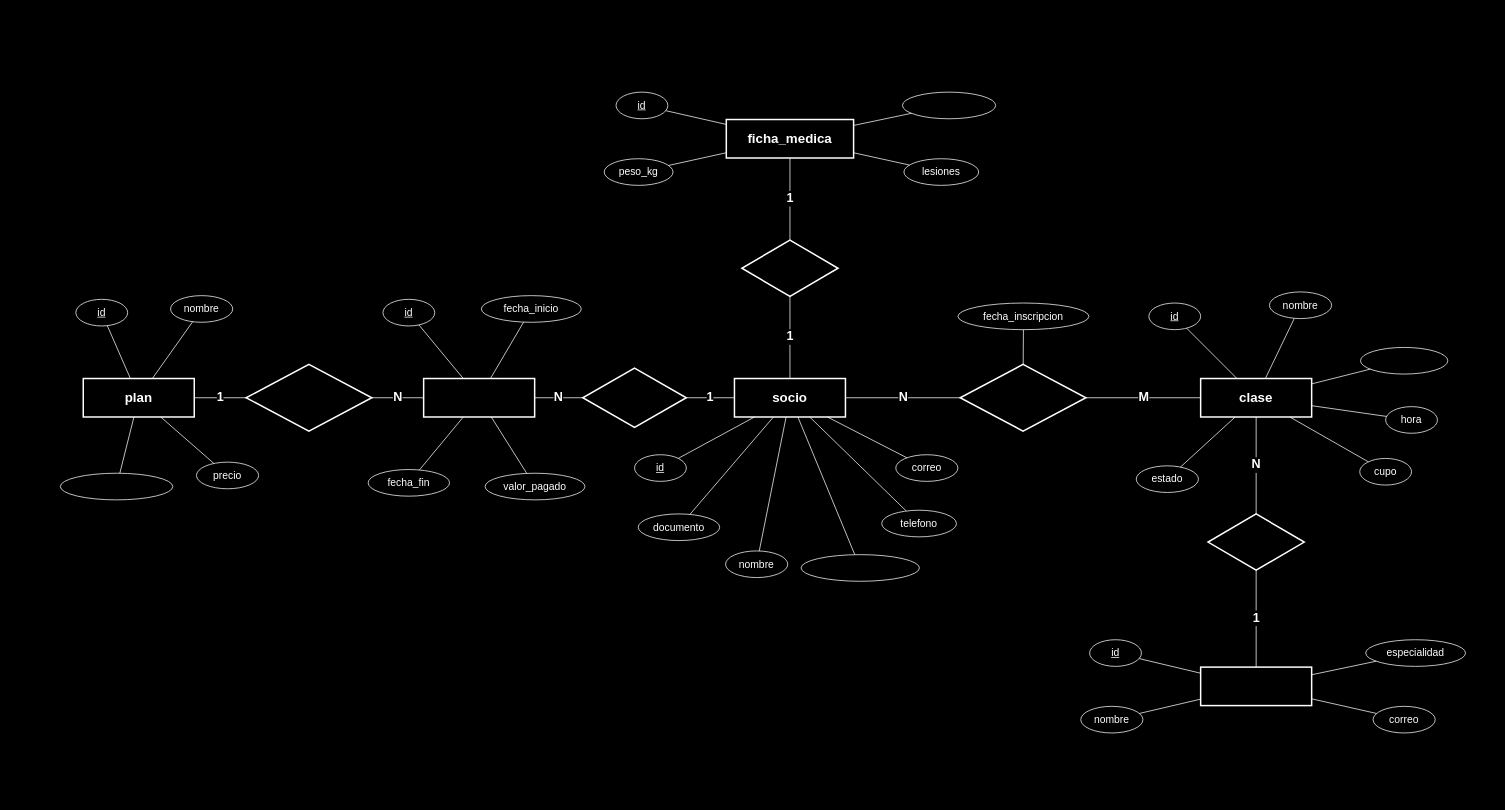
This 1505x810 diagram has some shape labels left out. Each missing label, with the box of its shape:
acepta_whatsapp: (800, 554, 919, 581)
compra: (582, 367, 687, 428)
corresponde_a: (245, 363, 372, 431)
dia_semana: (1360, 347, 1448, 374)
dicta: (1207, 513, 1305, 571)
duracion_meses: (60, 472, 173, 500)
entrenador: (1200, 666, 1312, 706)
estatura_cm: (902, 91, 996, 119)
membresia: (423, 377, 535, 417)
se_inscribe: (959, 363, 1086, 431)
tiene: (741, 239, 838, 297)
